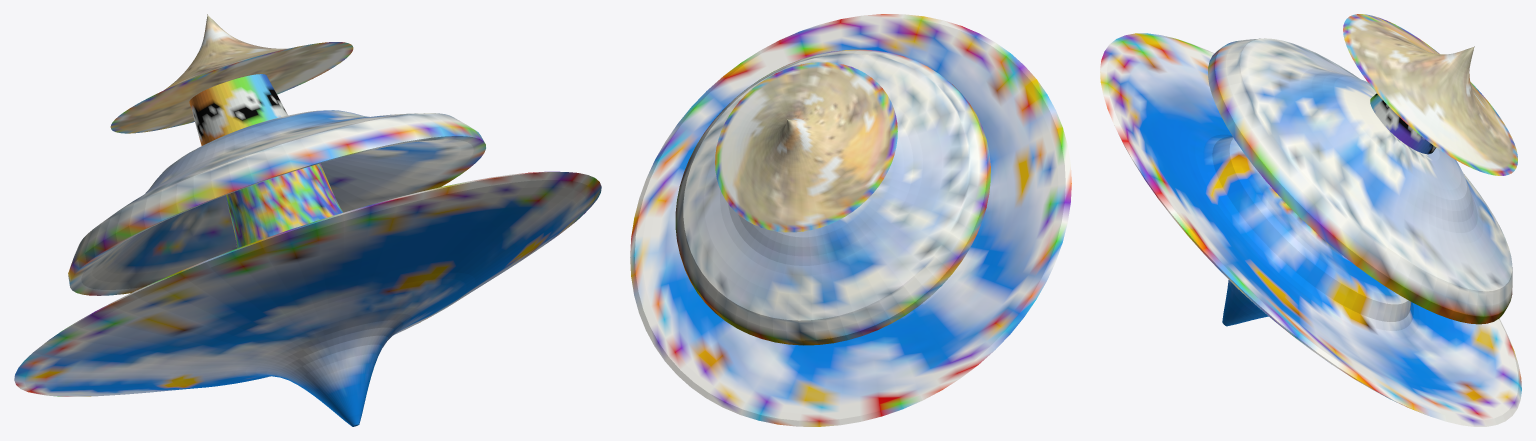
The model's file is april28outdoorpagoda6.glb.
The picture shows the model from 3 angles, left to right: view 1: azimuth 30°, elevation 25°; view 2: azimuth 150°, elevation 25°; view 3: azimuth 270°, elevation 25°; orthographic projection. The views are drawn at different scales.
Parts seen in each view (by area): view 1: Lathe 4, Lathe 3, Lathe, Lathe.001; view 2: Lathe 4, Lathe 3, Lathe; view 3: Lathe 4, Lathe 3, Lathe, Lathe.001.
Boxes of the visible parts, box(x1,y1,x2,y2) form: Lathe 4: box(14, 163, 601, 426); Lathe 3: box(68, 110, 485, 295); Lathe: box(110, 14, 353, 133); Lathe.001: box(189, 74, 287, 145); Lathe 4: box(630, 14, 1071, 426); Lathe 3: box(675, 49, 990, 345); Lathe: box(715, 62, 897, 232); Lathe 4: box(1100, 33, 1521, 426); Lathe 3: box(1208, 38, 1512, 324); Lathe: box(1343, 14, 1517, 175); Lathe.001: box(1370, 93, 1436, 154).
Bounding box in the file's own units: 3.74 × 2.68 × 2.88.
